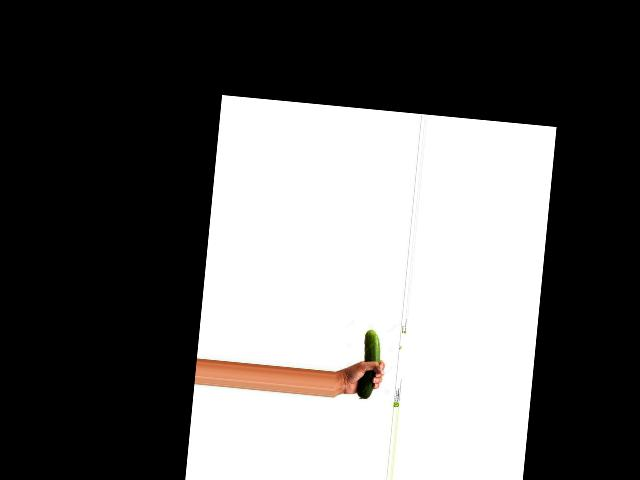cucumber: (357, 328, 383, 399)
